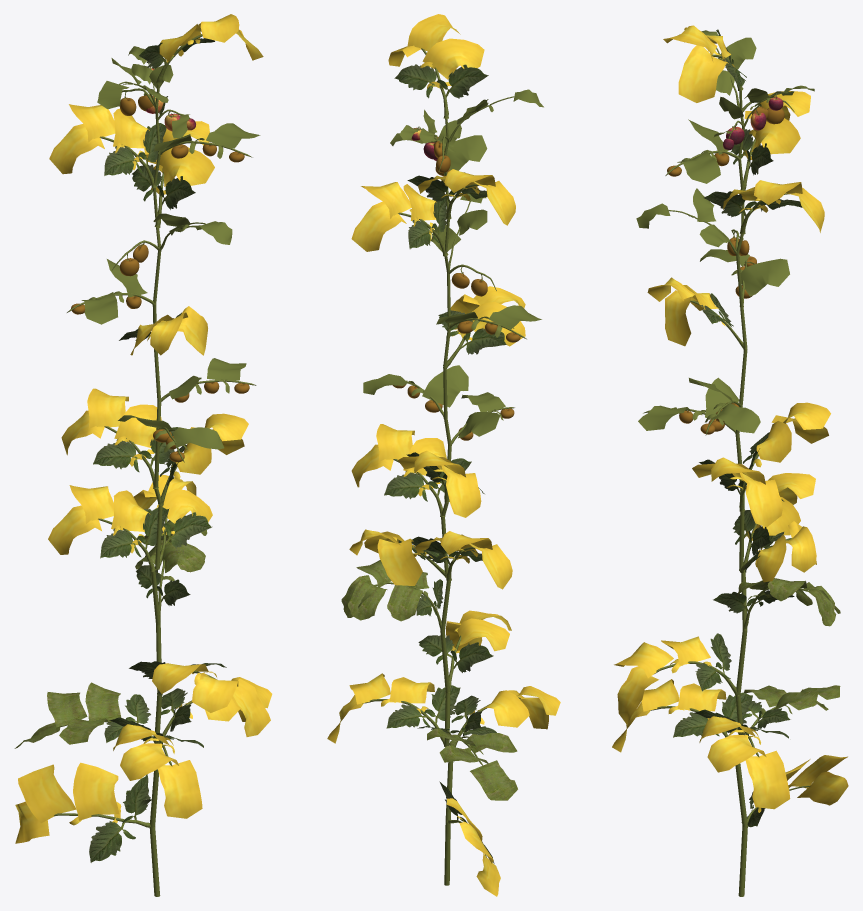
File: apple_tree.dae
3 renders of one model, left to right at view 1: azimuth 30°, elevation 25°; view 2: azimuth 150°, elevation 25°; view 3: azimuth 270°, elevation 25°, orthographic. The views are drawn at different scales.
Parts seen in each view (by area): view 1: Blossom1, Branch1, Leaf1, Blossom2; view 2: Blossom1, Branch1, Leaf1, Blossom2; view 3: Blossom1, Branch1, Leaf1, Blossom2.
Part boxes in pixels (bbox=[...]): Blossom1: bbox=[15, 14, 272, 843]; Branch1: bbox=[14, 34, 260, 896]; Leaf1: bbox=[89, 38, 226, 862]; Blossom2: bbox=[135, 520, 207, 581]; Blossom1: bbox=[327, 14, 560, 896]; Branch1: bbox=[362, 48, 543, 885]; Leaf1: bbox=[384, 64, 506, 863]; Blossom2: bbox=[341, 560, 429, 621]; Blossom1: bbox=[612, 25, 848, 812]; Branch1: bbox=[636, 30, 840, 896]; Leaf1: bbox=[673, 29, 802, 827]; Blossom2: bbox=[737, 578, 840, 626].
Size of the model in its own units: 0.8654 by 0.7677 by 2.97.
Materials: 6 (5 with a texture image).
